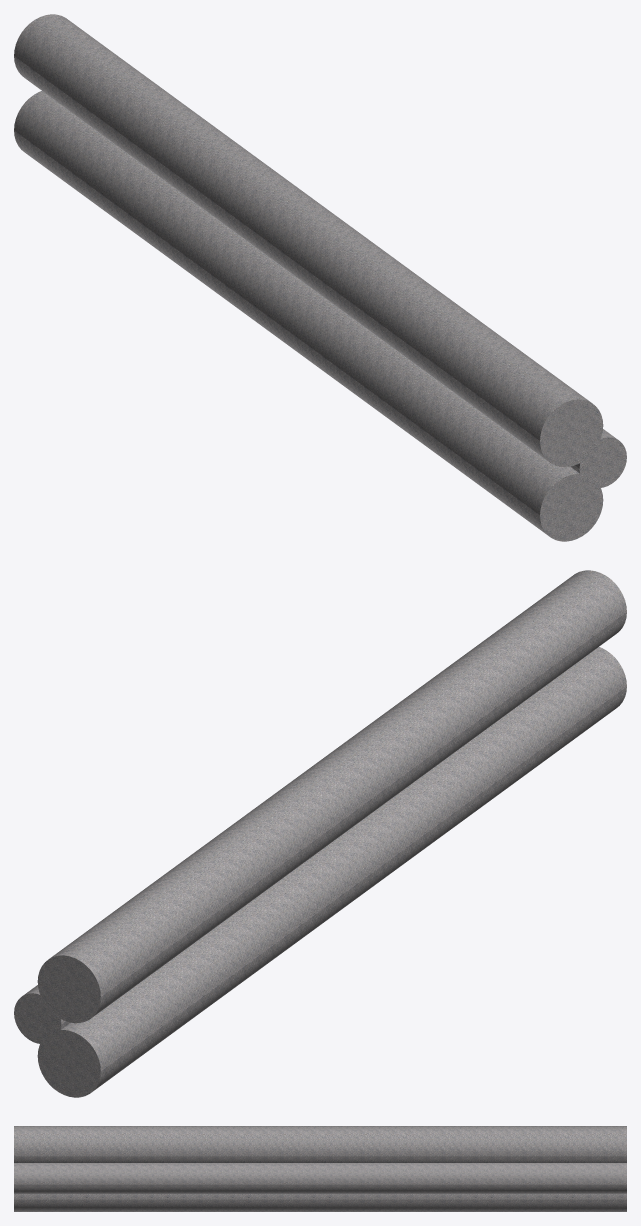
The picture shows the model from 3 angles, top to bottom: view 1: azimuth 30°, elevation 25°; view 2: azimuth 150°, elevation 25°; view 3: azimuth 270°, elevation 25°; orthographic projection. The views are drawn at different scales.
Visible parts, largest first — view 1: 0_1_3_3_0_3_1_3_2; view 2: 0_1_3_3_0_3_1_3_2; view 3: 0_1_3_3_0_3_1_3_2.
Boxes of the visible parts, x1,y1,x2,y2 form: 0_1_3_3_0_3_1_3_2: (14,14,626,541); 0_1_3_3_0_3_1_3_2: (14,570,626,1097); 0_1_3_3_0_3_1_3_2: (14,1126,626,1211).
Bounding box in the file's own units: 1.1 × 1.7 × 11.53.
Materials: 3 (3 with a texture image).
